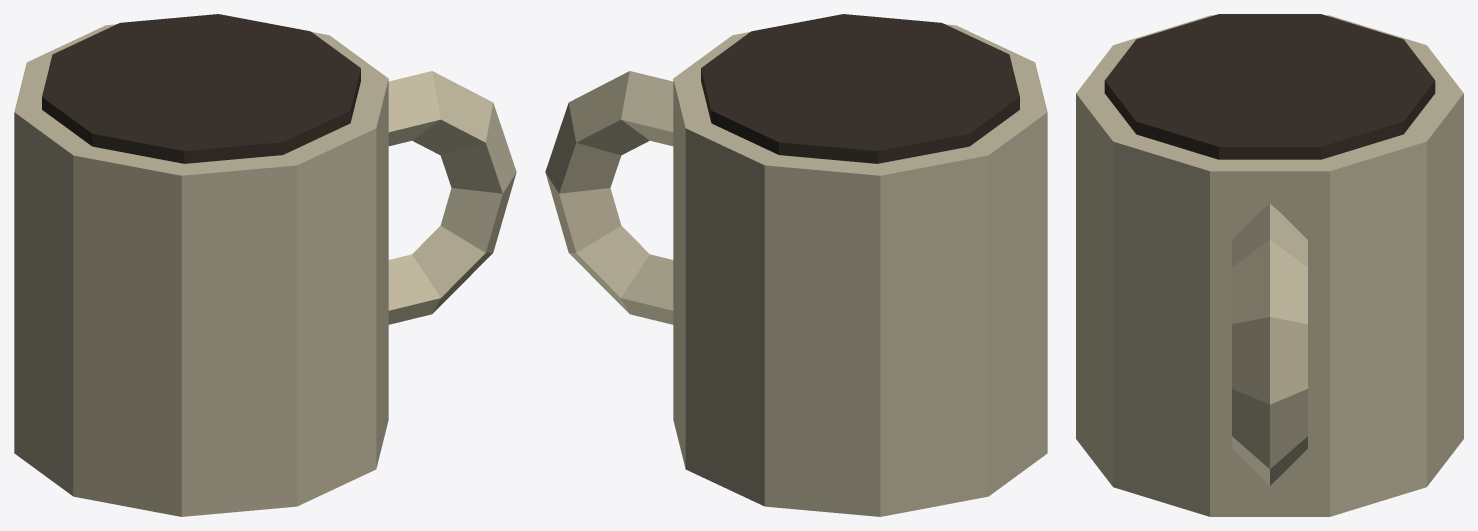
Rendered from coffee.glb.
3 views of the same model, side by side, from view 1: azimuth 30°, elevation 25°; view 2: azimuth 150°, elevation 25°; view 3: azimuth 270°, elevation 25° (orthographic).
Parts seen in each view (by area): view 1: CoffeeCup; view 2: CoffeeCup; view 3: CoffeeCup.
Part boxes in pixels (box(x1,y1,x2,y2)): CoffeeCup: box(14, 14, 516, 516); CoffeeCup: box(545, 14, 1047, 516); CoffeeCup: box(1076, 14, 1463, 516).
Size of the model in its own units: 0.174 by 0.1245 by 0.122.
